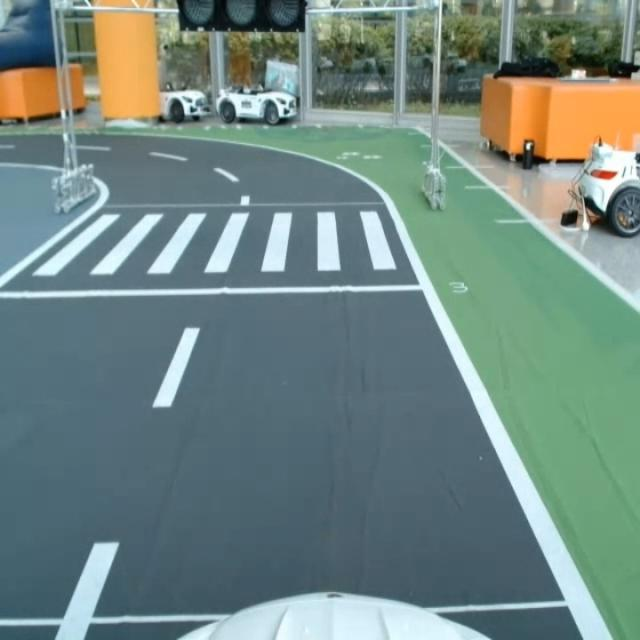traffic-light: (172, 0, 310, 37)
